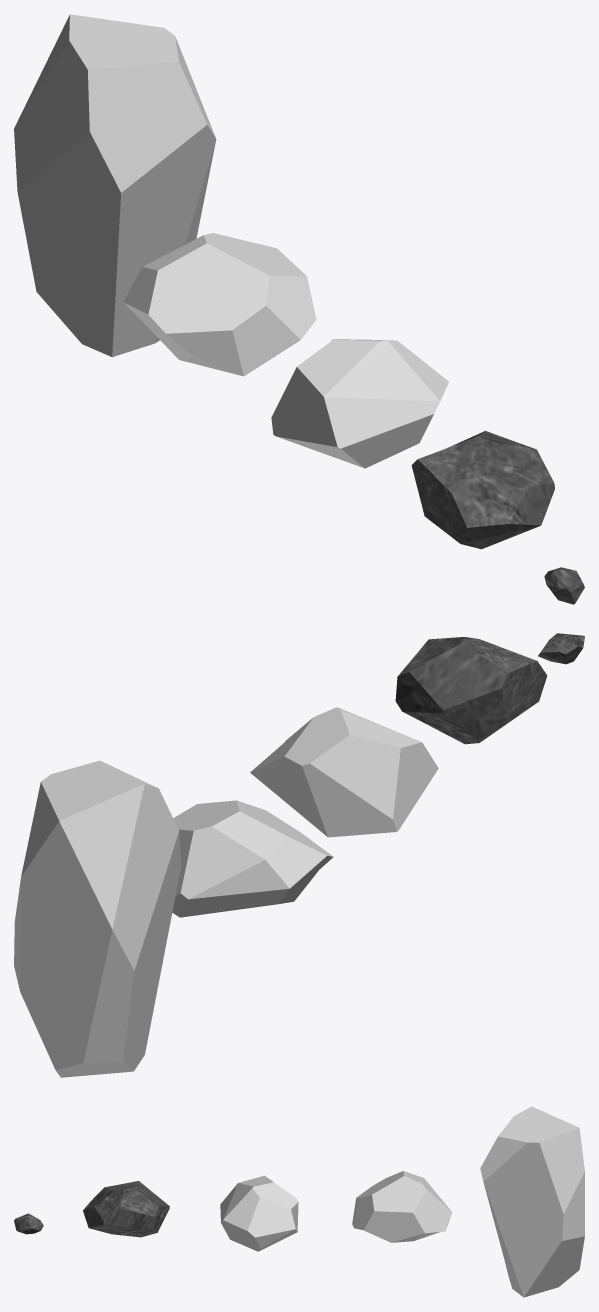
Rendered from rocks-transformed.glb.
3 renders of one model, top to bottom at view 1: azimuth 30°, elevation 25°; view 2: azimuth 150°, elevation 25°; view 3: azimuth 270°, elevation 25°, orthographic. The views are drawn at different scales.
Visible parts, largest first — view 1: mediun rock 2, mediun rock 3; view 2: mediun rock 2, mediun rock 3; view 3: mediun rock 2, mediun rock 3.
Part boxes in pixels (x1,y1,x2,y2): mediun rock 2: [14, 14, 448, 468]; mediun rock 3: [411, 431, 584, 604]; mediun rock 2: [14, 707, 438, 1077]; mediun rock 3: [395, 633, 584, 744]; mediun rock 2: [220, 1106, 584, 1297]; mediun rock 3: [14, 1181, 169, 1237].
Size of the model in its own units: 2.3 by 3.8 by 11.96.
Materials: 2 (1 with a texture image).
